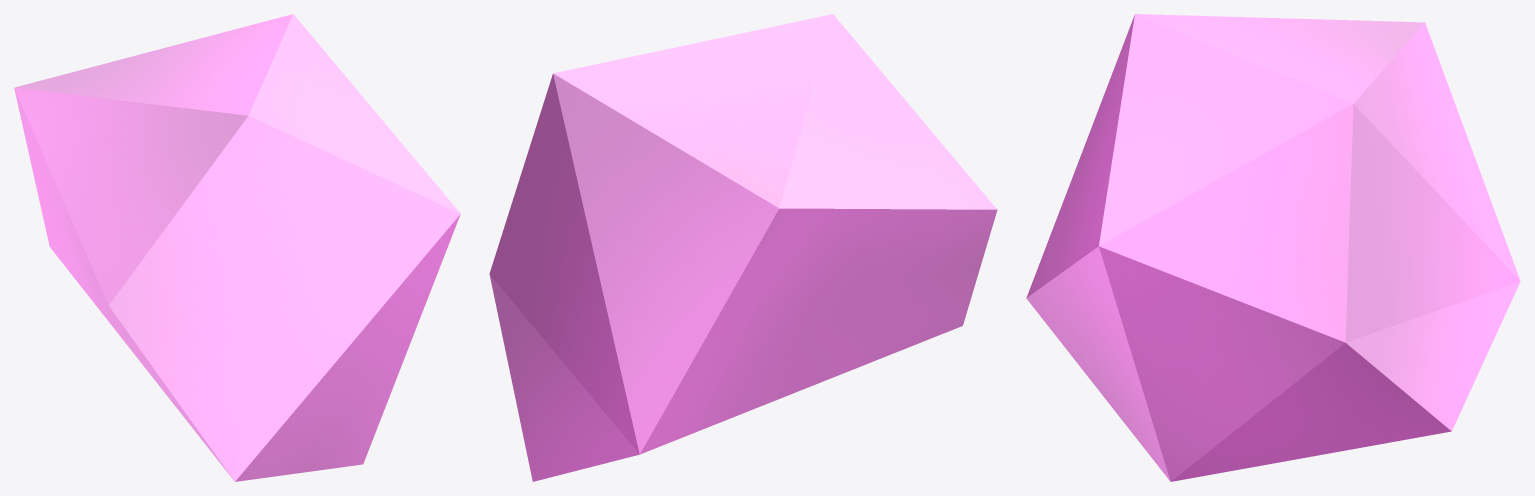
Rendered from Cristal_gem.013.fbx.
3 views of the same model, side by side, from view 1: azimuth 30°, elevation 25°; view 2: azimuth 150°, elevation 25°; view 3: azimuth 270°, elevation 25° (orthographic). The views are drawn at different scales.
Parts seen in each view (by area): view 1: Crystal_gem.013; view 2: Crystal_gem.013; view 3: Crystal_gem.013.
Part boxes in pixels (<box>): Crystal_gem.013: <box>14,14,460,481</box>; Crystal_gem.013: <box>489,14,997,481</box>; Crystal_gem.013: <box>1026,14,1520,481</box>.
Size of the model in its own units: 34.35 by 35.84 by 39.94.
